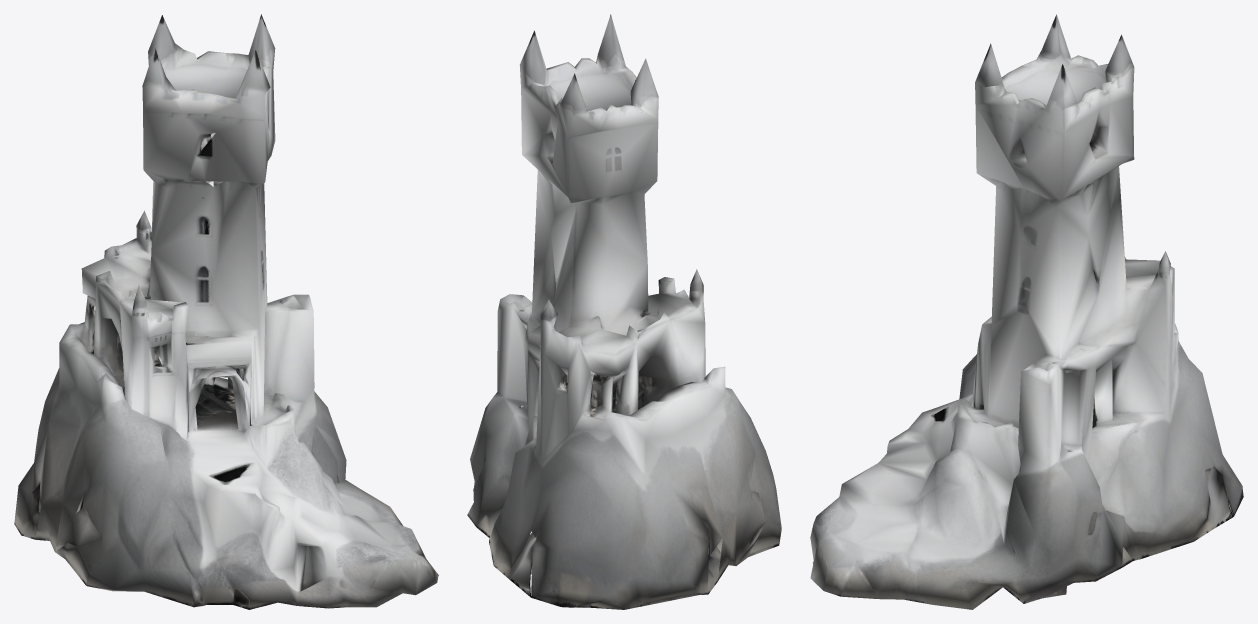
The model's file is Rook.fbx.
3 views of the same model, side by side, from view 1: azimuth 30°, elevation 25°; view 2: azimuth 150°, elevation 25°; view 3: azimuth 270°, elevation 25° (orthographic).
Visible parts, largest first — view 1: Mesh_0; view 2: Mesh_0; view 3: Mesh_0.
Boxes of the visible parts, x1,y1,x2,y2 form: Mesh_0: (14,14,438,609); Mesh_0: (467,14,781,609); Mesh_0: (810,14,1243,609).
Bounding box in the file's own units: 125 × 200 × 155.
1 material, 1 textured.
